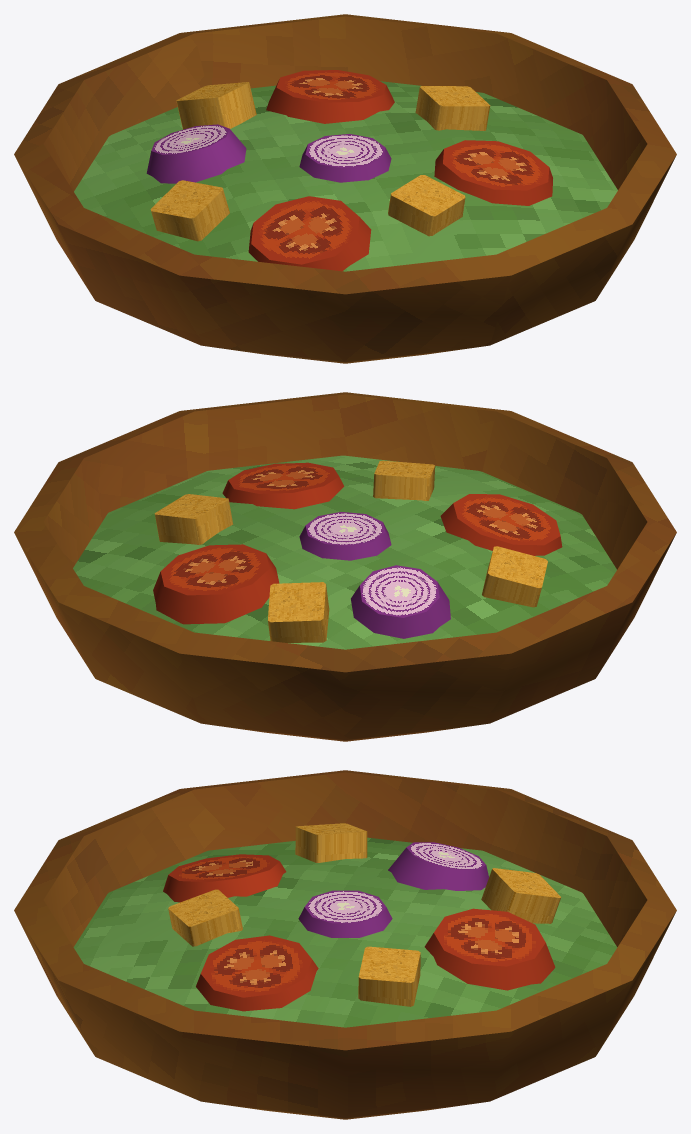
The model's file is Bowl.fbx.
3 views of the same model, one above another, from view 1: azimuth 30°, elevation 25°; view 2: azimuth 150°, elevation 25°; view 3: azimuth 270°, elevation 25° (orthographic).
Parts seen in each view (by area): view 1: Bowl, Bowl_Lettuce, Bowl_Tomato, Bowl_Cheddar, Bowl_Onion; view 2: Bowl, Bowl_Lettuce, Bowl_Tomato, Bowl_Cheddar, Bowl_Onion; view 3: Bowl, Bowl_Lettuce, Bowl_Tomato, Bowl_Cheddar, Bowl_Onion.
Boxes of the visible parts, box(x1,y1,x2,y2) form: Bowl: box(14, 14, 676, 363); Bowl_Lettuce: box(74, 81, 617, 271); Bowl_Tomato: box(248, 70, 552, 271); Bowl_Cheddar: box(150, 82, 490, 241); Bowl_Onion: box(146, 124, 391, 183); Bowl: box(14, 392, 676, 741); Bowl_Lettuce: box(73, 455, 616, 649); Bowl_Tomato: box(153, 462, 562, 624); Bowl_Cheddar: box(154, 460, 547, 642); Bowl_Onion: box(299, 512, 450, 638); Bowl: box(14, 770, 676, 1119); Bowl_Lettuce: box(73, 837, 617, 1027); Bowl_Tomato: box(163, 854, 555, 1011); Bowl_Cheddar: box(168, 823, 561, 1006); Bowl_Onion: box(298, 842, 488, 937).
Size of the model in its own units: 0.4326 by 0.1142 by 0.4326.
